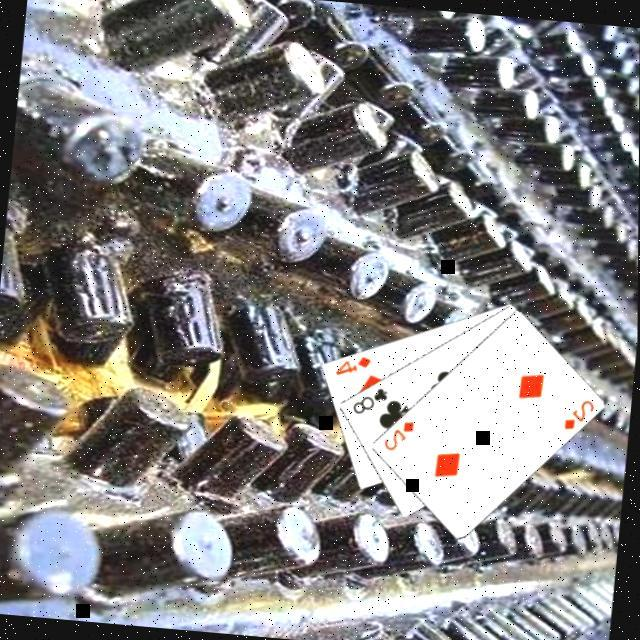2D: (382, 416, 418, 456), (562, 396, 598, 436)
4D: (334, 352, 376, 381)
8C: (350, 383, 392, 420)
